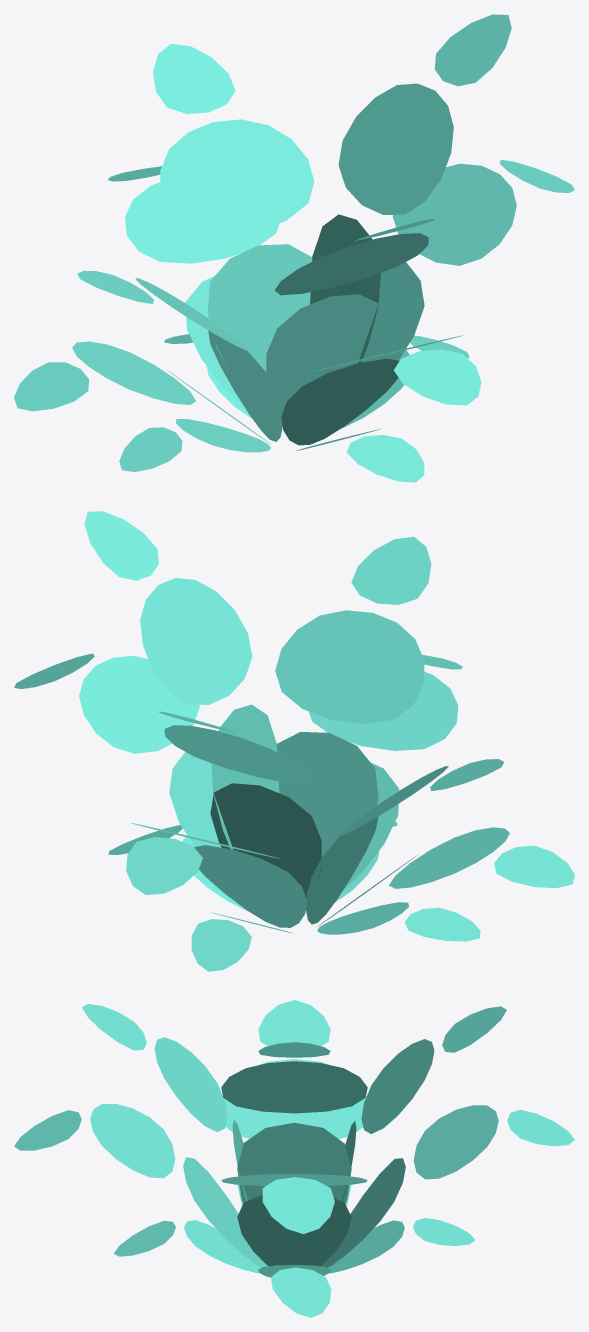
Rendered from plant_bushDetailed.glb.
3 renders of one model, top to bottom at view 1: azimuth 30°, elevation 25°; view 2: azimuth 150°, elevation 25°; view 3: azimuth 270°, elevation 25°, orthographic. The views are drawn at different scales.
Parts seen in each view (by area): view 1: plant_bushDetailed; view 2: plant_bushDetailed; view 3: plant_bushDetailed.
Part boxes in pixels (box(x1,y1,x2,y2)): plant_bushDetailed: box(14, 14, 574, 482); plant_bushDetailed: box(14, 511, 574, 971); plant_bushDetailed: box(14, 1000, 574, 1317).
Bounding box in the file's own units: 0.5351 × 0.3354 × 0.5351.
